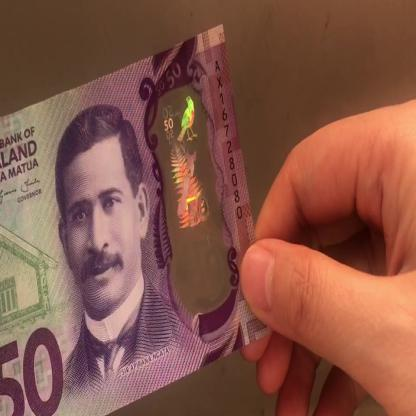50F: (162, 95, 222, 299)
